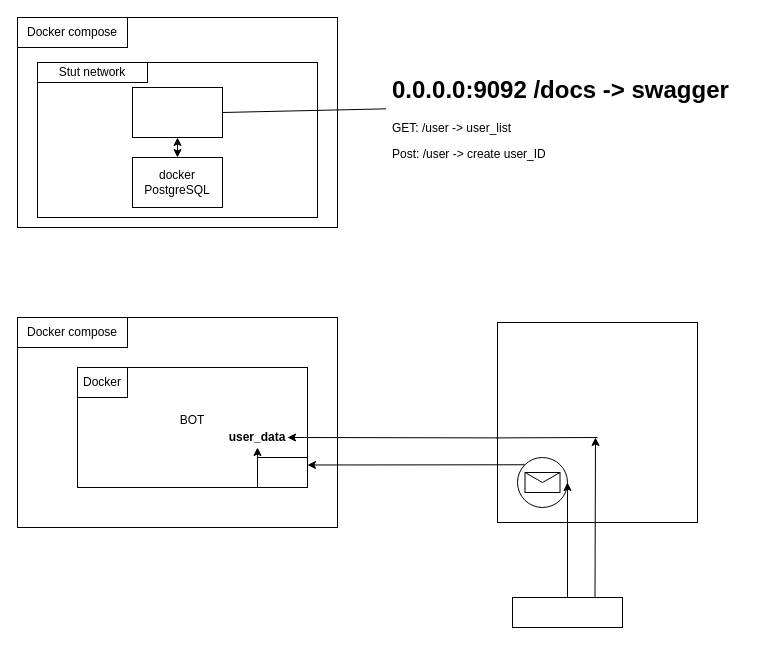
This 765x645 diagram has some shape labels left out. Each missing label, with the centre of its shape:
"Docker FasAPI" belongs at [177,112].
"Polling" belongs at [282,472].
"Telegram" belongs at [597,422].
"USER" belongs at [567,612].
